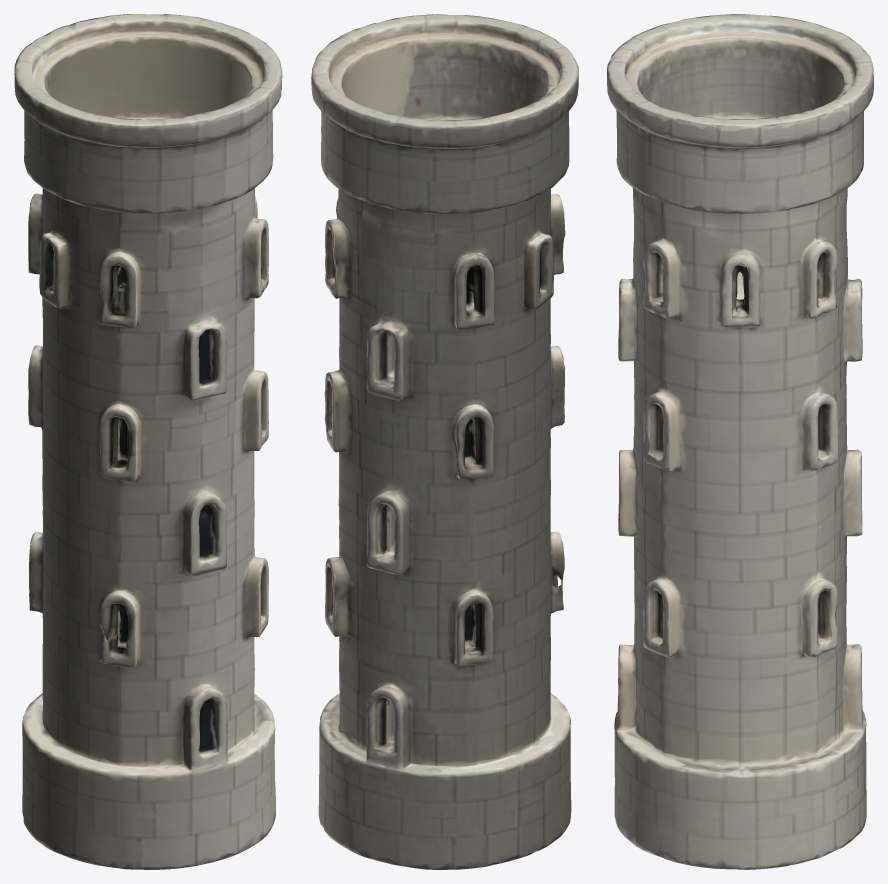
File: 롯데_코너타워.glb
The picture shows the model from 3 angles, left to right: view 1: azimuth 30°, elevation 25°; view 2: azimuth 150°, elevation 25°; view 3: azimuth 270°, elevation 25°; orthographic projection.
Visible parts, largest first — view 1: texture_mapping; view 2: texture_mapping; view 3: texture_mapping.
Part boxes in pixels (x1=…): texture_mapping: x1=14, y1=14, x2=282, y2=869; texture_mapping: x1=311, y1=14, x2=578, y2=869; texture_mapping: x1=607, y1=14, x2=873, y2=869.
Size of the model in its own units: 0.3245 by 1 by 0.3241.
Materials: 1 (1 with a texture image).
